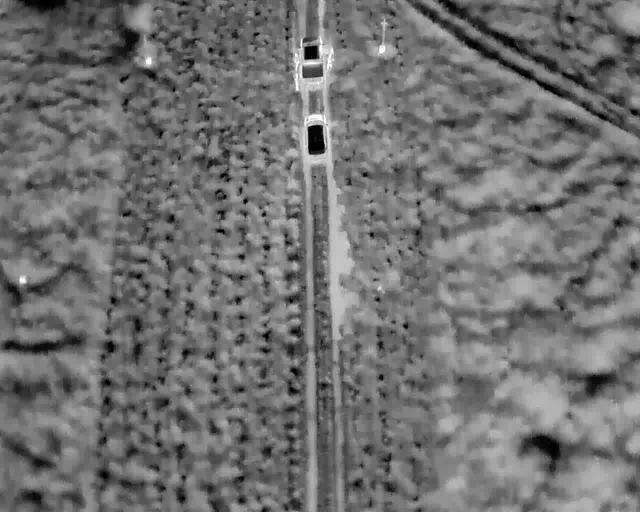car: (298, 33, 326, 82), (303, 113, 328, 157)
person: (323, 52, 335, 72), (291, 71, 302, 91), (290, 50, 301, 70)
